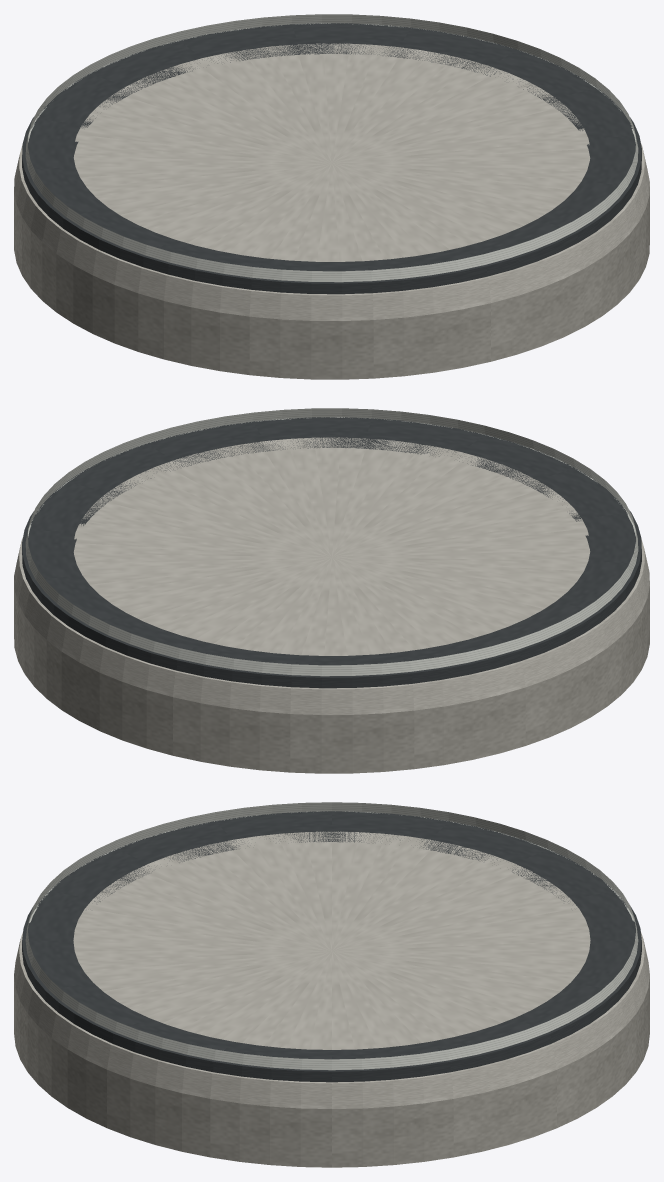
File: body.obj
3 views of the same model, one above another, from view 1: azimuth 30°, elevation 25°; view 2: azimuth 150°, elevation 25°; view 3: azimuth 270°, elevation 25° (orthographic).
Bounding box in the file's own units: 0.984 × 0.175 × 0.984.
